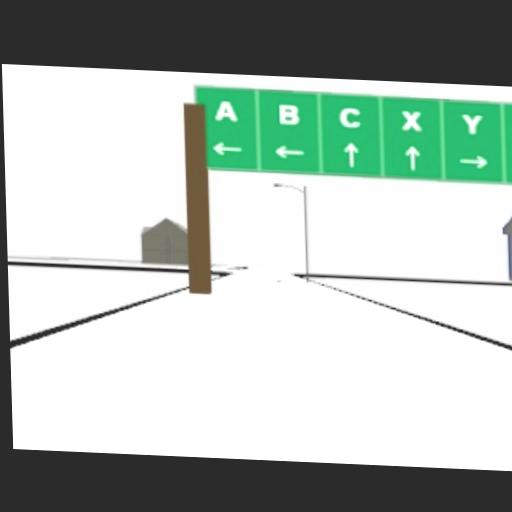A: (215, 98, 237, 121)
B: (278, 103, 298, 124)
C: (339, 106, 361, 127)
Left: (210, 140, 242, 156), (272, 143, 306, 158)
Right: (457, 153, 487, 168)
Straight: (343, 139, 357, 166), (405, 144, 419, 168)
X: (400, 109, 420, 130)
Y: (460, 112, 482, 133)
